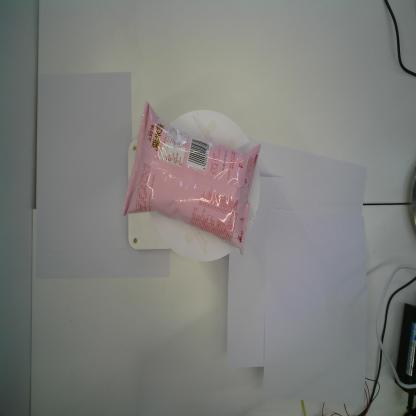Puffed Food: (121, 100, 262, 256)
